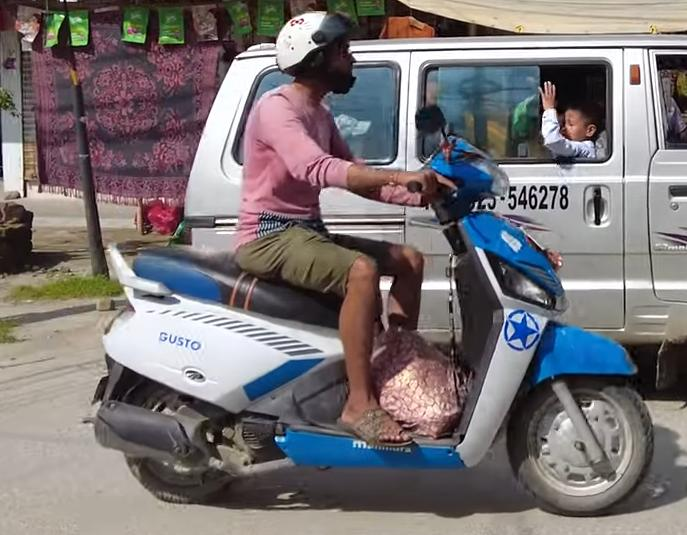scooter: (75, 101, 652, 520)
